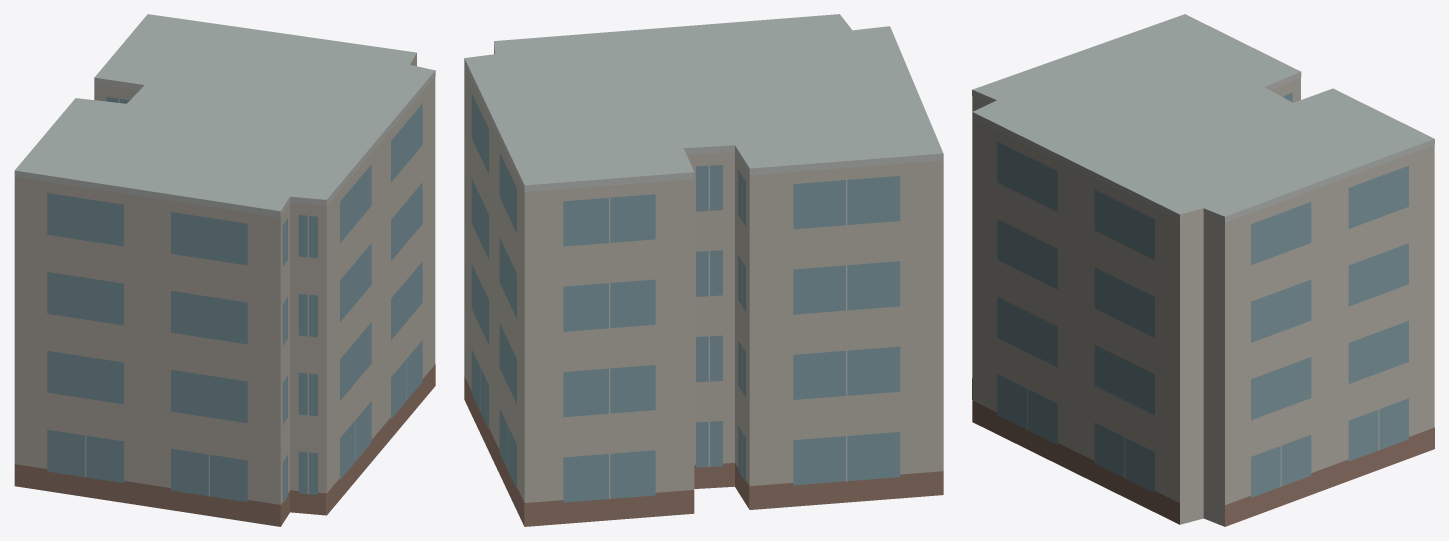
File: survey-upis-32741866.glb
The picture shows the model from 3 angles, left to right: view 1: azimuth 30°, elevation 25°; view 2: azimuth 150°, elevation 25°; view 3: azimuth 270°, elevation 25°; orthographic projection. The views are drawn at different scales.
Visible parts, largest first — view 1: survey-upis-32741866.tmp; view 2: survey-upis-32741866.tmp; view 3: survey-upis-32741866.tmp.
Part boxes in pixels (x1,y1,x2,y2): survey-upis-32741866.tmp: [14, 14, 435, 526]; survey-upis-32741866.tmp: [464, 14, 943, 526]; survey-upis-32741866.tmp: [972, 14, 1434, 526].
Bounding box in the file's own units: 17.25 × 12.3 × 16.64.
